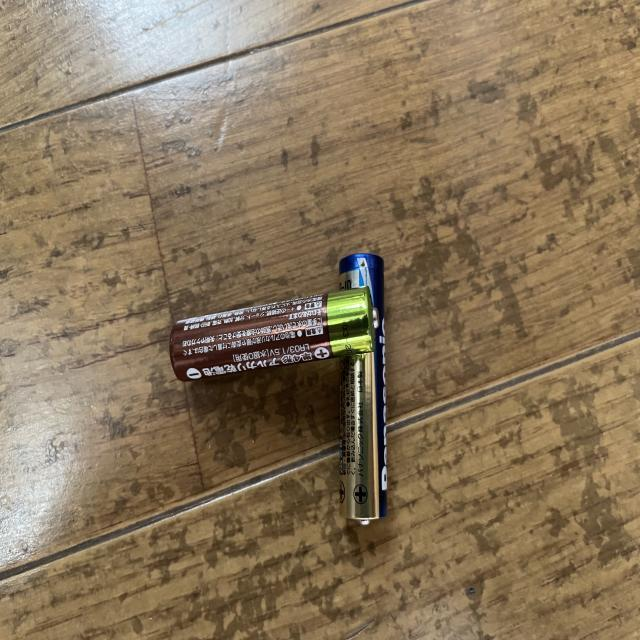hazardous waste: (160, 281, 390, 395), (334, 242, 396, 534)
